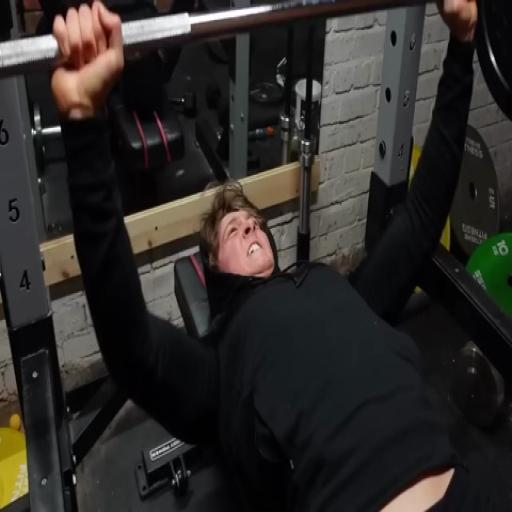exercise: (45, 0, 494, 511)
